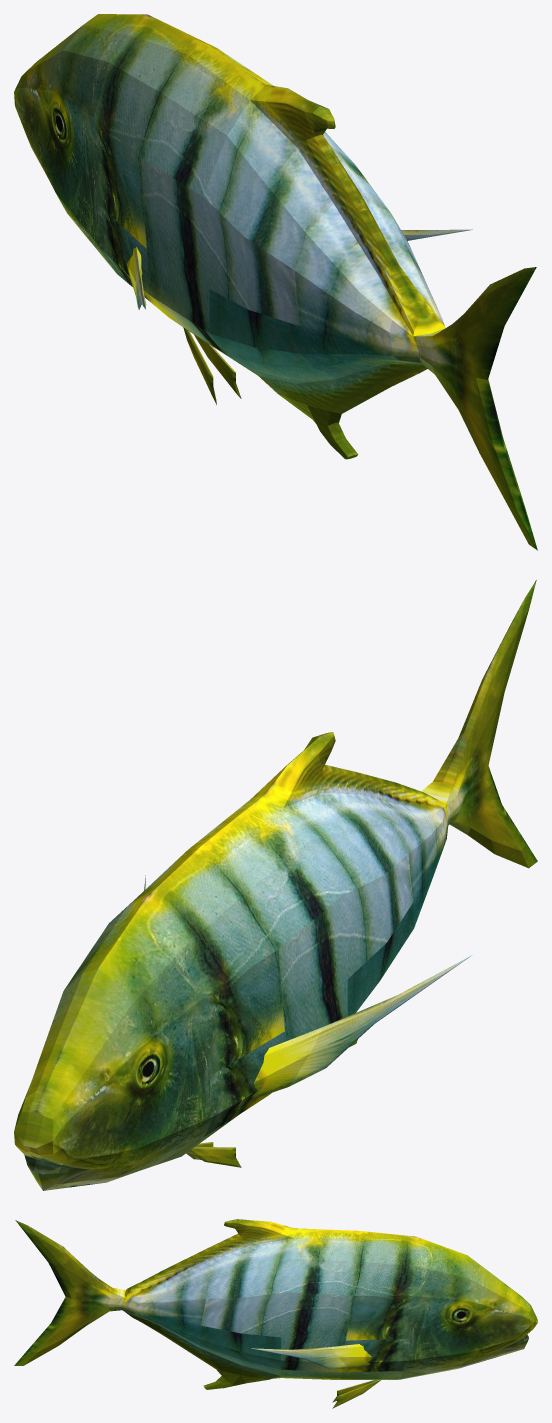
The model's file is gnathanodon-speciosus.glb.
3 views of the same model, one above another, from view 1: azimuth 30°, elevation 25°; view 2: azimuth 150°, elevation 25°; view 3: azimuth 270°, elevation 25° (orthographic). The views are drawn at different scales.
Visible parts, largest first — view 1: gnathanodon_speciosus, pelvic.r, pectoral.l; view 2: gnathanodon_speciosus, pectoral.l, pelvic.l; view 3: gnathanodon_speciosus, pectoral.r, pelvic.r.
Part boxes in pixels (<box>): gnathanodon_speciosus: <box>14,14,537,550</box>; pelvic.r: <box>194,334,241,398</box>; pectoral.l: <box>127,247,146,309</box>; gnathanodon_speciosus: <box>14,580,537,1190</box>; pectoral.l: <box>251,955,471,1098</box>; pelvic.l: <box>188,1147,241,1167</box>; gnathanodon_speciosus: <box>14,1219,537,1389</box>; pectoral.r: <box>250,1344,371,1368</box>; pelvic.r: <box>332,1380,380,1408</box>.
Bounding box in the file's own units: 0.4464 × 0.4712 × 1.2.
Materials: 1 (1 with a texture image).
